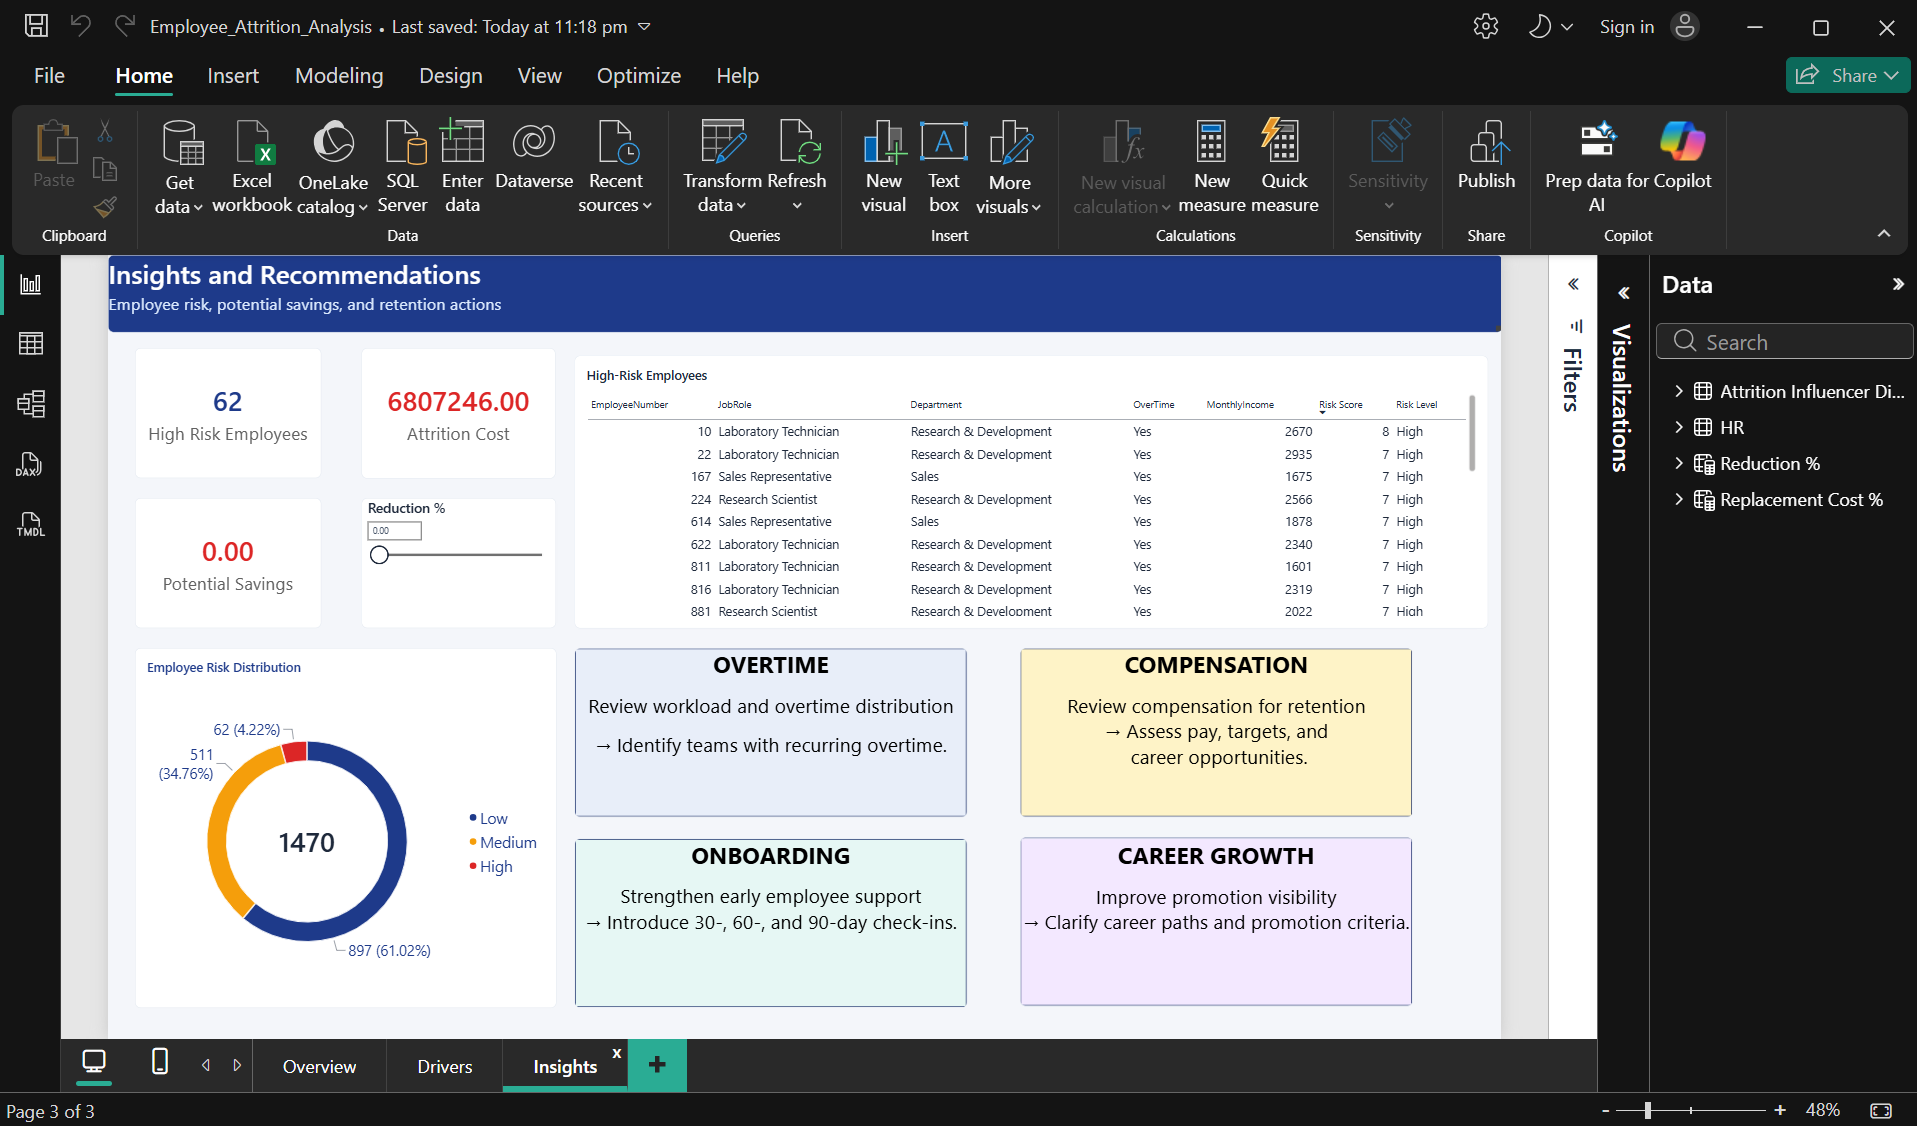

What the dashboard file says about the page in this screenshot:
{"tool":"powerbi","page":{"name":"Insights","canvas":[1920,1080],"ordinal":2},"visuals":[{"type":"textbox","title":"Insights and Recommendations","box":[0,0,1921.5,106.8],"z":0},{"type":"card","fields":{"Values":["HR.High Risk Employees"]},"box":[36.3,127.2,256.7,179.4],"z":1000},{"type":"card","fields":{"Values":["HR.Attrition Cost"]},"box":[349.8,127.2,267.6,180],"z":2000},{"type":"card","fields":{"Values":["HR.Potential Savings"]},"box":[36.3,333.9,256.7,179.4],"z":3000},{"type":"slicer","fields":{"Values":["Reduction %.Reduction %"]},"box":[349.8,333.9,268,179.4],"z":4000},{"type":"donutChart","title":"Employee Risk Distribution","fields":{"Category":["HR.Risk Level"],"Y":["HR.Total Employees"]},"box":[37.2,541.4,580.6,495.9],"z":5000},{"type":"tableEx","title":"High-Risk Employees","fields":{"Values":["HR.EmployeeNumber","HR.JobRole","HR.Department","HR.OverTime","HR.MonthlyIncome","HR.Risk Score","HR.Risk Level"]},"box":[642.6,138.4,1258.4,376.1],"z":6000},{"type":"shape","box":[642.6,541.4,541.4,233.5],"z":6001},{"type":"shape","box":[1256.4,541.4,541.4,233.5],"z":6002},{"type":"shape","box":[1256.4,801.8,541.4,233.5],"z":6003},{"type":"shape","box":[642.6,803.8,541.4,233.5],"z":6004},{"type":"textbox","box":[642.6,541.4,541.4,233.5],"z":6005},{"type":"textbox","box":[1256.4,541.4,541.4,233.5],"z":6006},{"type":"textbox","box":[642.6,803.8,541.4,231.4],"z":6007},{"type":"textbox","box":[1256.4,803.8,541.4,231.4],"z":6008}]}

Visuals, with their boxes on the page's 1920x1080 design canvas (x1, y1, x2, y2). These are canvas units, not pixel positions in the 1917x1126 screenshot, which may show the page scaled, cropped or inside an application window:
"Insights and Recommendations" textbox: bbox=[0, 0, 1922, 107]
card - HR.High Risk Employees: bbox=[36, 127, 293, 307]
card - HR.Attrition Cost: bbox=[350, 127, 617, 307]
card - HR.Potential Savings: bbox=[36, 334, 293, 513]
slicer - Reduction %.Reduction %: bbox=[350, 334, 618, 513]
"Employee Risk Distribution" donutChart: bbox=[37, 541, 618, 1037]
"High-Risk Employees" tableEx: bbox=[643, 138, 1901, 514]
shape: bbox=[643, 541, 1184, 775]
shape: bbox=[1256, 541, 1798, 775]
shape: bbox=[1256, 802, 1798, 1035]
shape: bbox=[643, 804, 1184, 1037]
textbox: bbox=[643, 541, 1184, 775]
textbox: bbox=[1256, 541, 1798, 775]
textbox: bbox=[643, 804, 1184, 1035]
textbox: bbox=[1256, 804, 1798, 1035]
